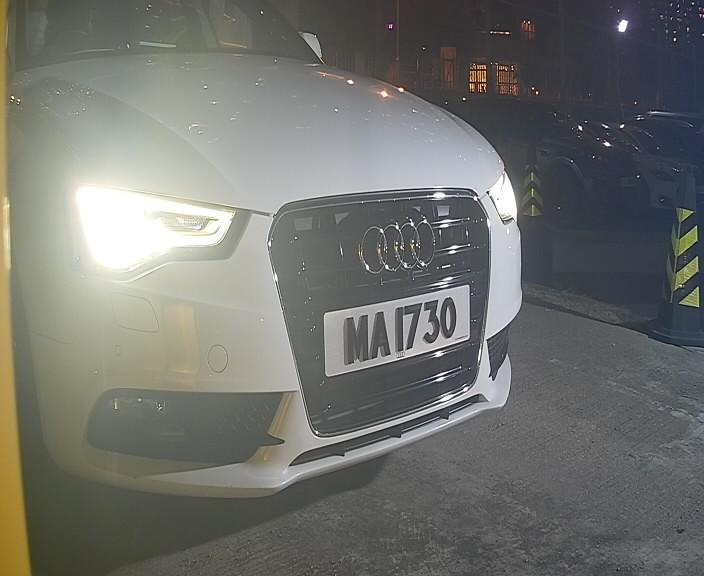privatecar: (26, 16, 516, 502)
